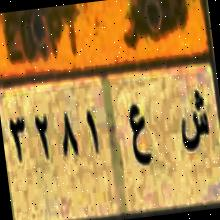1: (80, 98, 107, 170)
2: (34, 111, 54, 160)
3: (5, 108, 34, 170)
8: (54, 106, 82, 176)
ain: (126, 98, 153, 174)
sheen: (174, 82, 215, 162)
